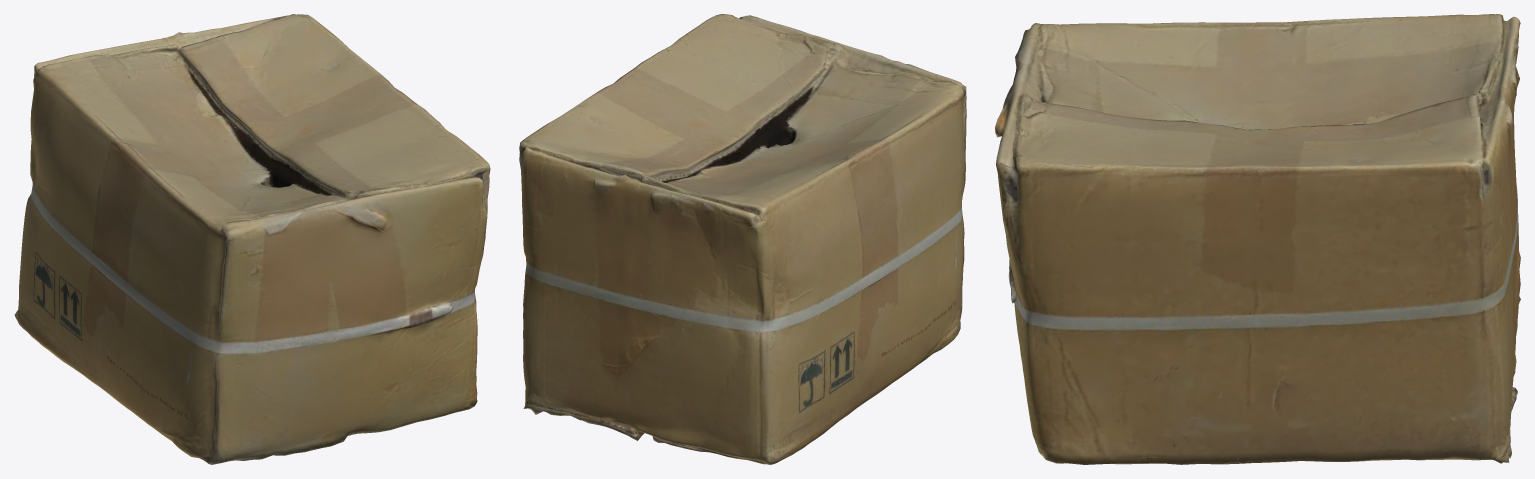
Rendered from cardboard_box_01.glb.
The picture shows the model from 3 angles, left to right: view 1: azimuth 30°, elevation 25°; view 2: azimuth 150°, elevation 25°; view 3: azimuth 270°, elevation 25°; orthographic projection. The views are drawn at different scales.
Parts seen in each view (by area): view 1: cardboard_box_01; view 2: cardboard_box_01; view 3: cardboard_box_01.
Part boxes in pixels (x1=…): cardboard_box_01: x1=14, y1=14, x2=490, y2=464; cardboard_box_01: x1=519, y1=14, x2=966, y2=464; cardboard_box_01: x1=995, y1=14, x2=1520, y2=464.
Bounding box in the file's own units: 0.387 × 0.3418 × 0.5159.
Materials: 1 (1 with a texture image).
